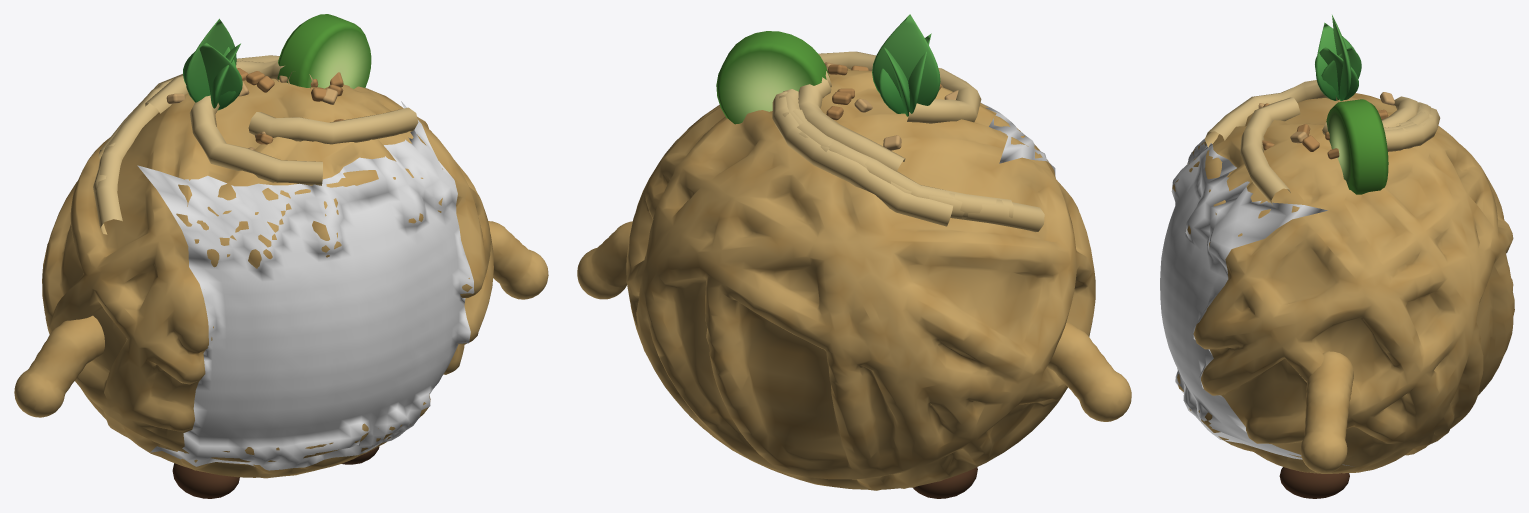
The model's file is folk2_basil.glb.
3 renders of one model, left to right at view 1: azimuth 30°, elevation 25°; view 2: azimuth 150°, elevation 25°; view 3: azimuth 270°, elevation 25°, orthographic. The views are drawn at different scales.
Visible parts, largest first — view 1: basil_body, basil_face, basil_arm_l, basil_arm_r, basil_foot_l; view 2: basil_body, basil_arm_l, basil_arm_r, basil_face, basil_foot_l; view 3: basil_body, basil_face, basil_arm_r, basil_foot_r.
Part boxes in pixels (x1=…): basil_body: x1=42, y1=14, x2=493, y2=478; basil_face: x1=137, y1=101, x2=474, y2=470; basil_arm_l: x1=14, y1=315, x2=104, y2=417; basil_arm_r: x1=488, y1=221, x2=548, y2=299; basil_foot_l: x1=172, y1=463, x2=239, y2=498; basil_body: x1=626, y1=14, x2=1095, y2=490; basil_arm_l: x1=1047, y1=322, x2=1131, y2=421; basil_arm_r: x1=577, y1=221, x2=632, y2=299; basil_face: x1=981, y1=103, x2=1055, y2=174; basil_foot_l: x1=913, y1=467, x2=977, y2=498; basil_body: x1=1172, y1=15, x2=1514, y2=473; basil_face: x1=1160, y1=138, x2=1352, y2=466; basil_arm_r: x1=1300, y1=351, x2=1353, y2=473; basil_foot_r: x1=1279, y1=467, x2=1349, y2=498.
Size of the model in its own units: 1.46 by 1.22 by 0.918.
